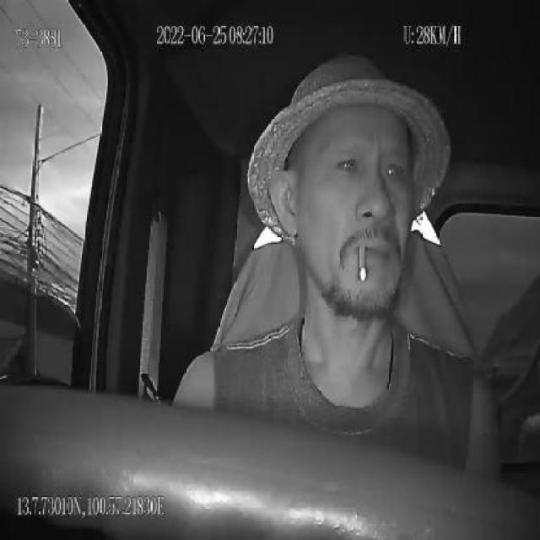smoking: (355, 239, 369, 284)
